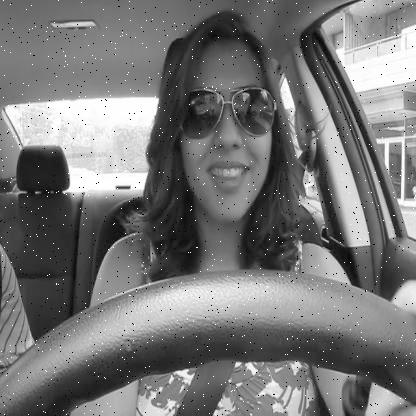seatbelt: (145, 0, 324, 416)
